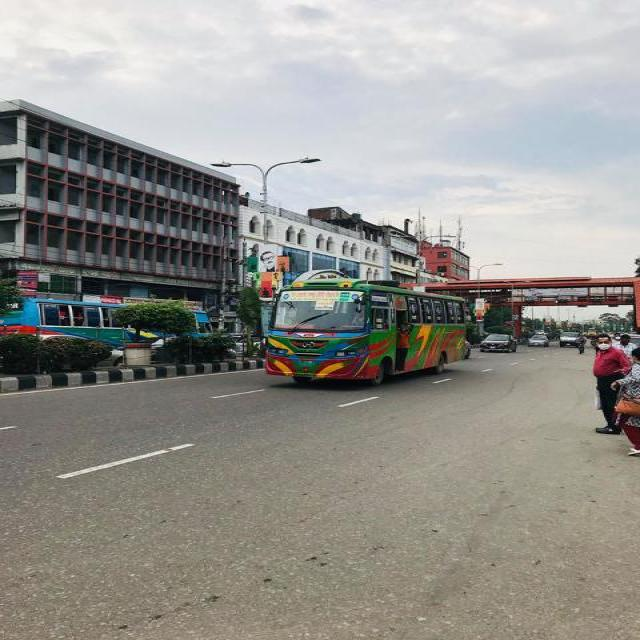bus: (261, 277, 468, 388)
car: (478, 331, 518, 352), (526, 333, 550, 346)
